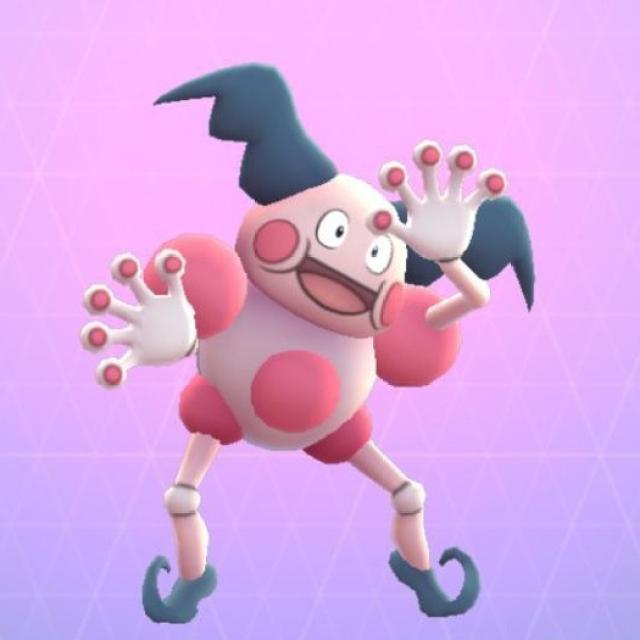MrMime: (123, 132, 531, 569)
